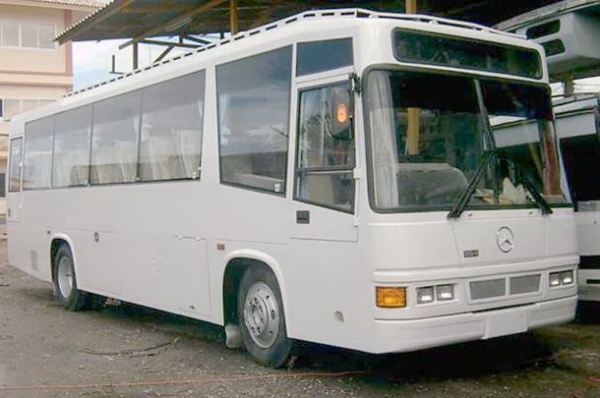bus: (4, 16, 580, 367)
